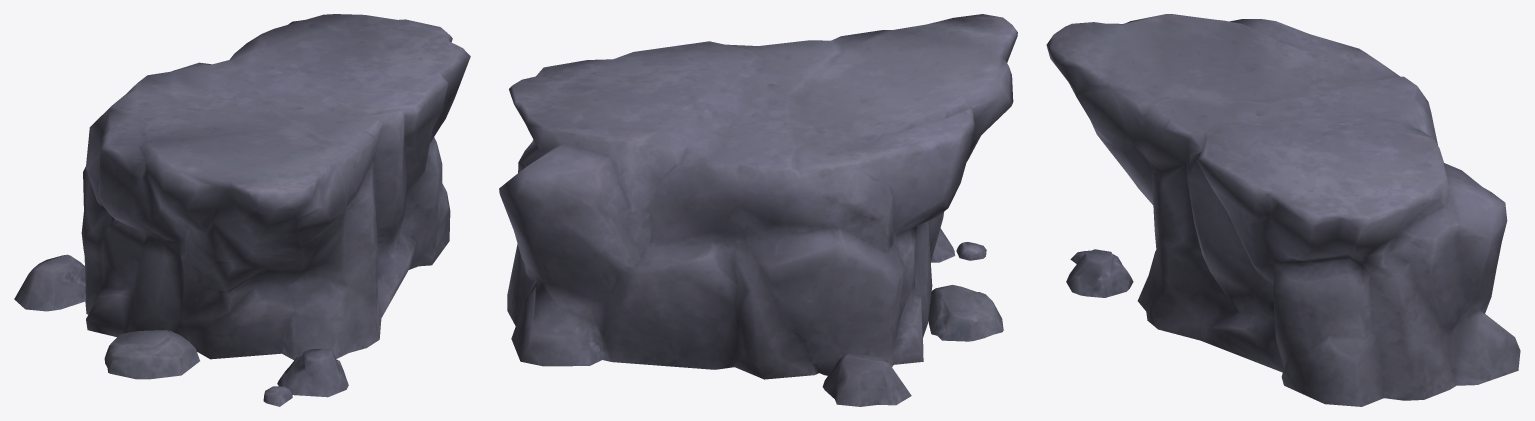
Rendered from Battle_haijie_shanshi01_fbx.fbx.
3 renders of one model, left to right at view 1: azimuth 30°, elevation 25°; view 2: azimuth 150°, elevation 25°; view 3: azimuth 270°, elevation 25°, orthographic. The views are drawn at different scales.
Visible parts, largest first — view 1: Battle_haijie_shanshi01_fbx; view 2: Battle_haijie_shanshi01_fbx; view 3: Battle_haijie_shanshi01_fbx.
Boxes of the visible parts, box(x1,y1,x2,y2) form: Battle_haijie_shanshi01_fbx: box(14, 14, 470, 406); Battle_haijie_shanshi01_fbx: box(499, 14, 1017, 406); Battle_haijie_shanshi01_fbx: box(1046, 14, 1520, 406).
Size of the model in its own units: 5757 by 2981 by 5766.
